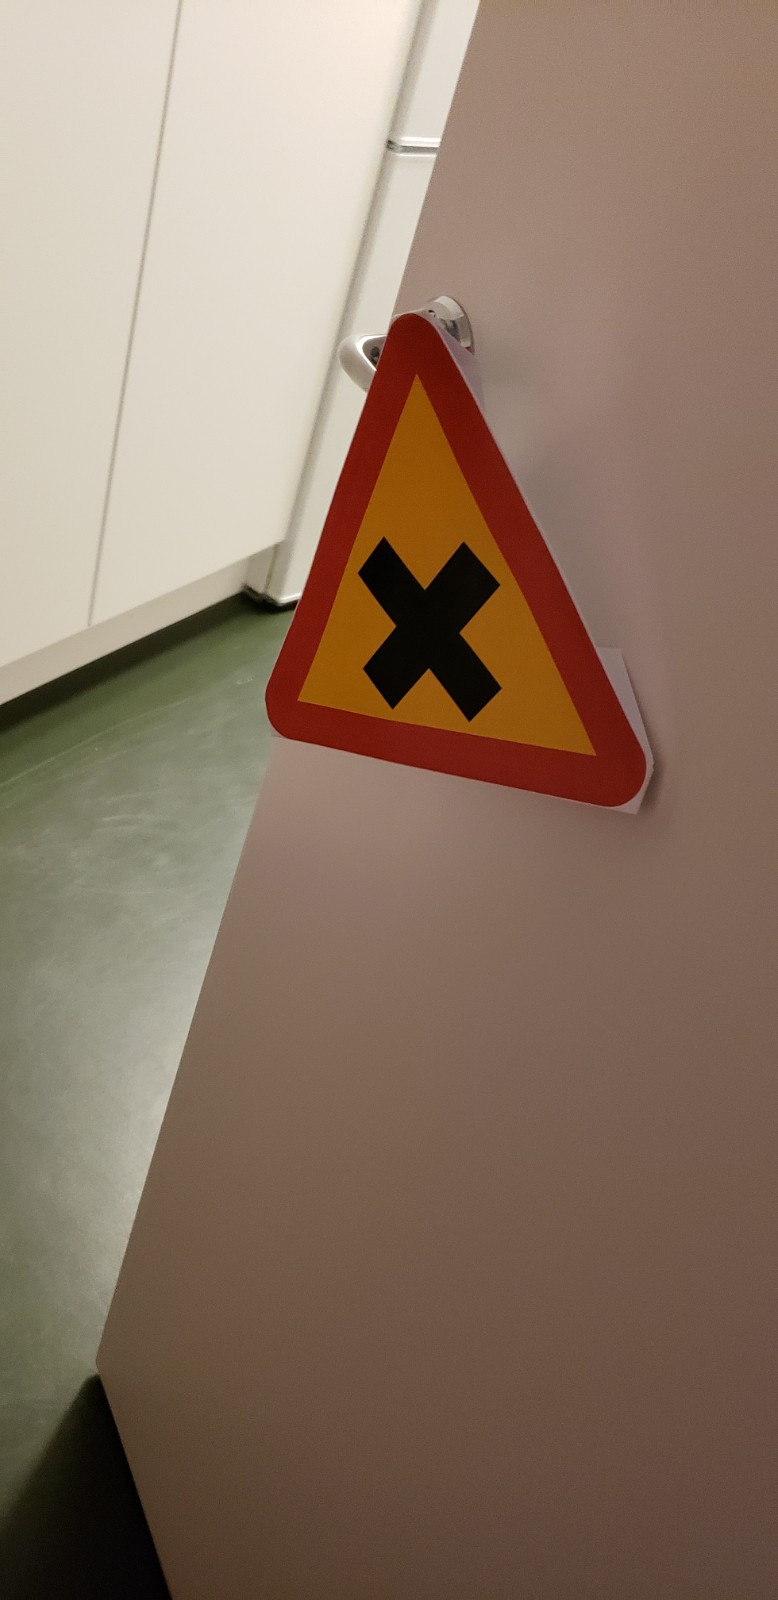junction: (243, 266, 683, 869)
